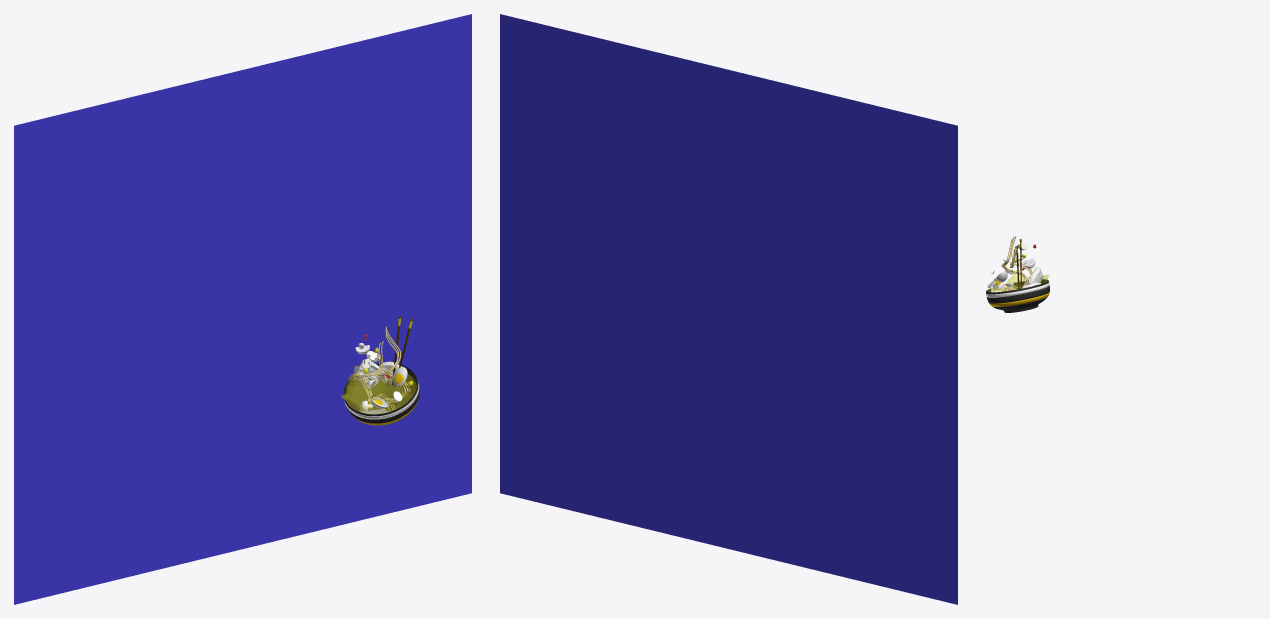
The model's file is ramen dinamic.glb.
3 renders of one model, left to right at view 1: azimuth 30°, elevation 25°; view 2: azimuth 150°, elevation 25°; view 3: azimuth 270°, elevation 25°, orthographic. The views are drawn at different scales.
Visible parts, largest first — view 1: Plane.001, Circle, Sphere; view 2: Plane.001; view 3: Circle.
Boxes of the visible parts, x1=… form: Plane.001: x1=14, y1=14, x2=471, y2=604; Circle: x1=343, y1=363, x2=419, y2=425; Sphere: x1=341, y1=366, x2=416, y2=413; Plane.001: x1=500, y1=14, x2=957, y2=604; Circle: x1=986, y1=279, x2=1049, y2=312.
Size of the model in its own units: 16.73 by 16.73 by 10.16.
